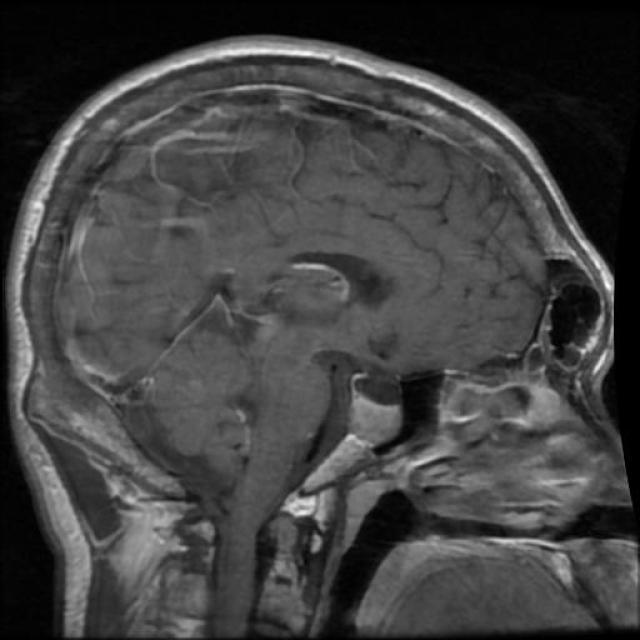pituitary: (279, 380, 404, 522)
